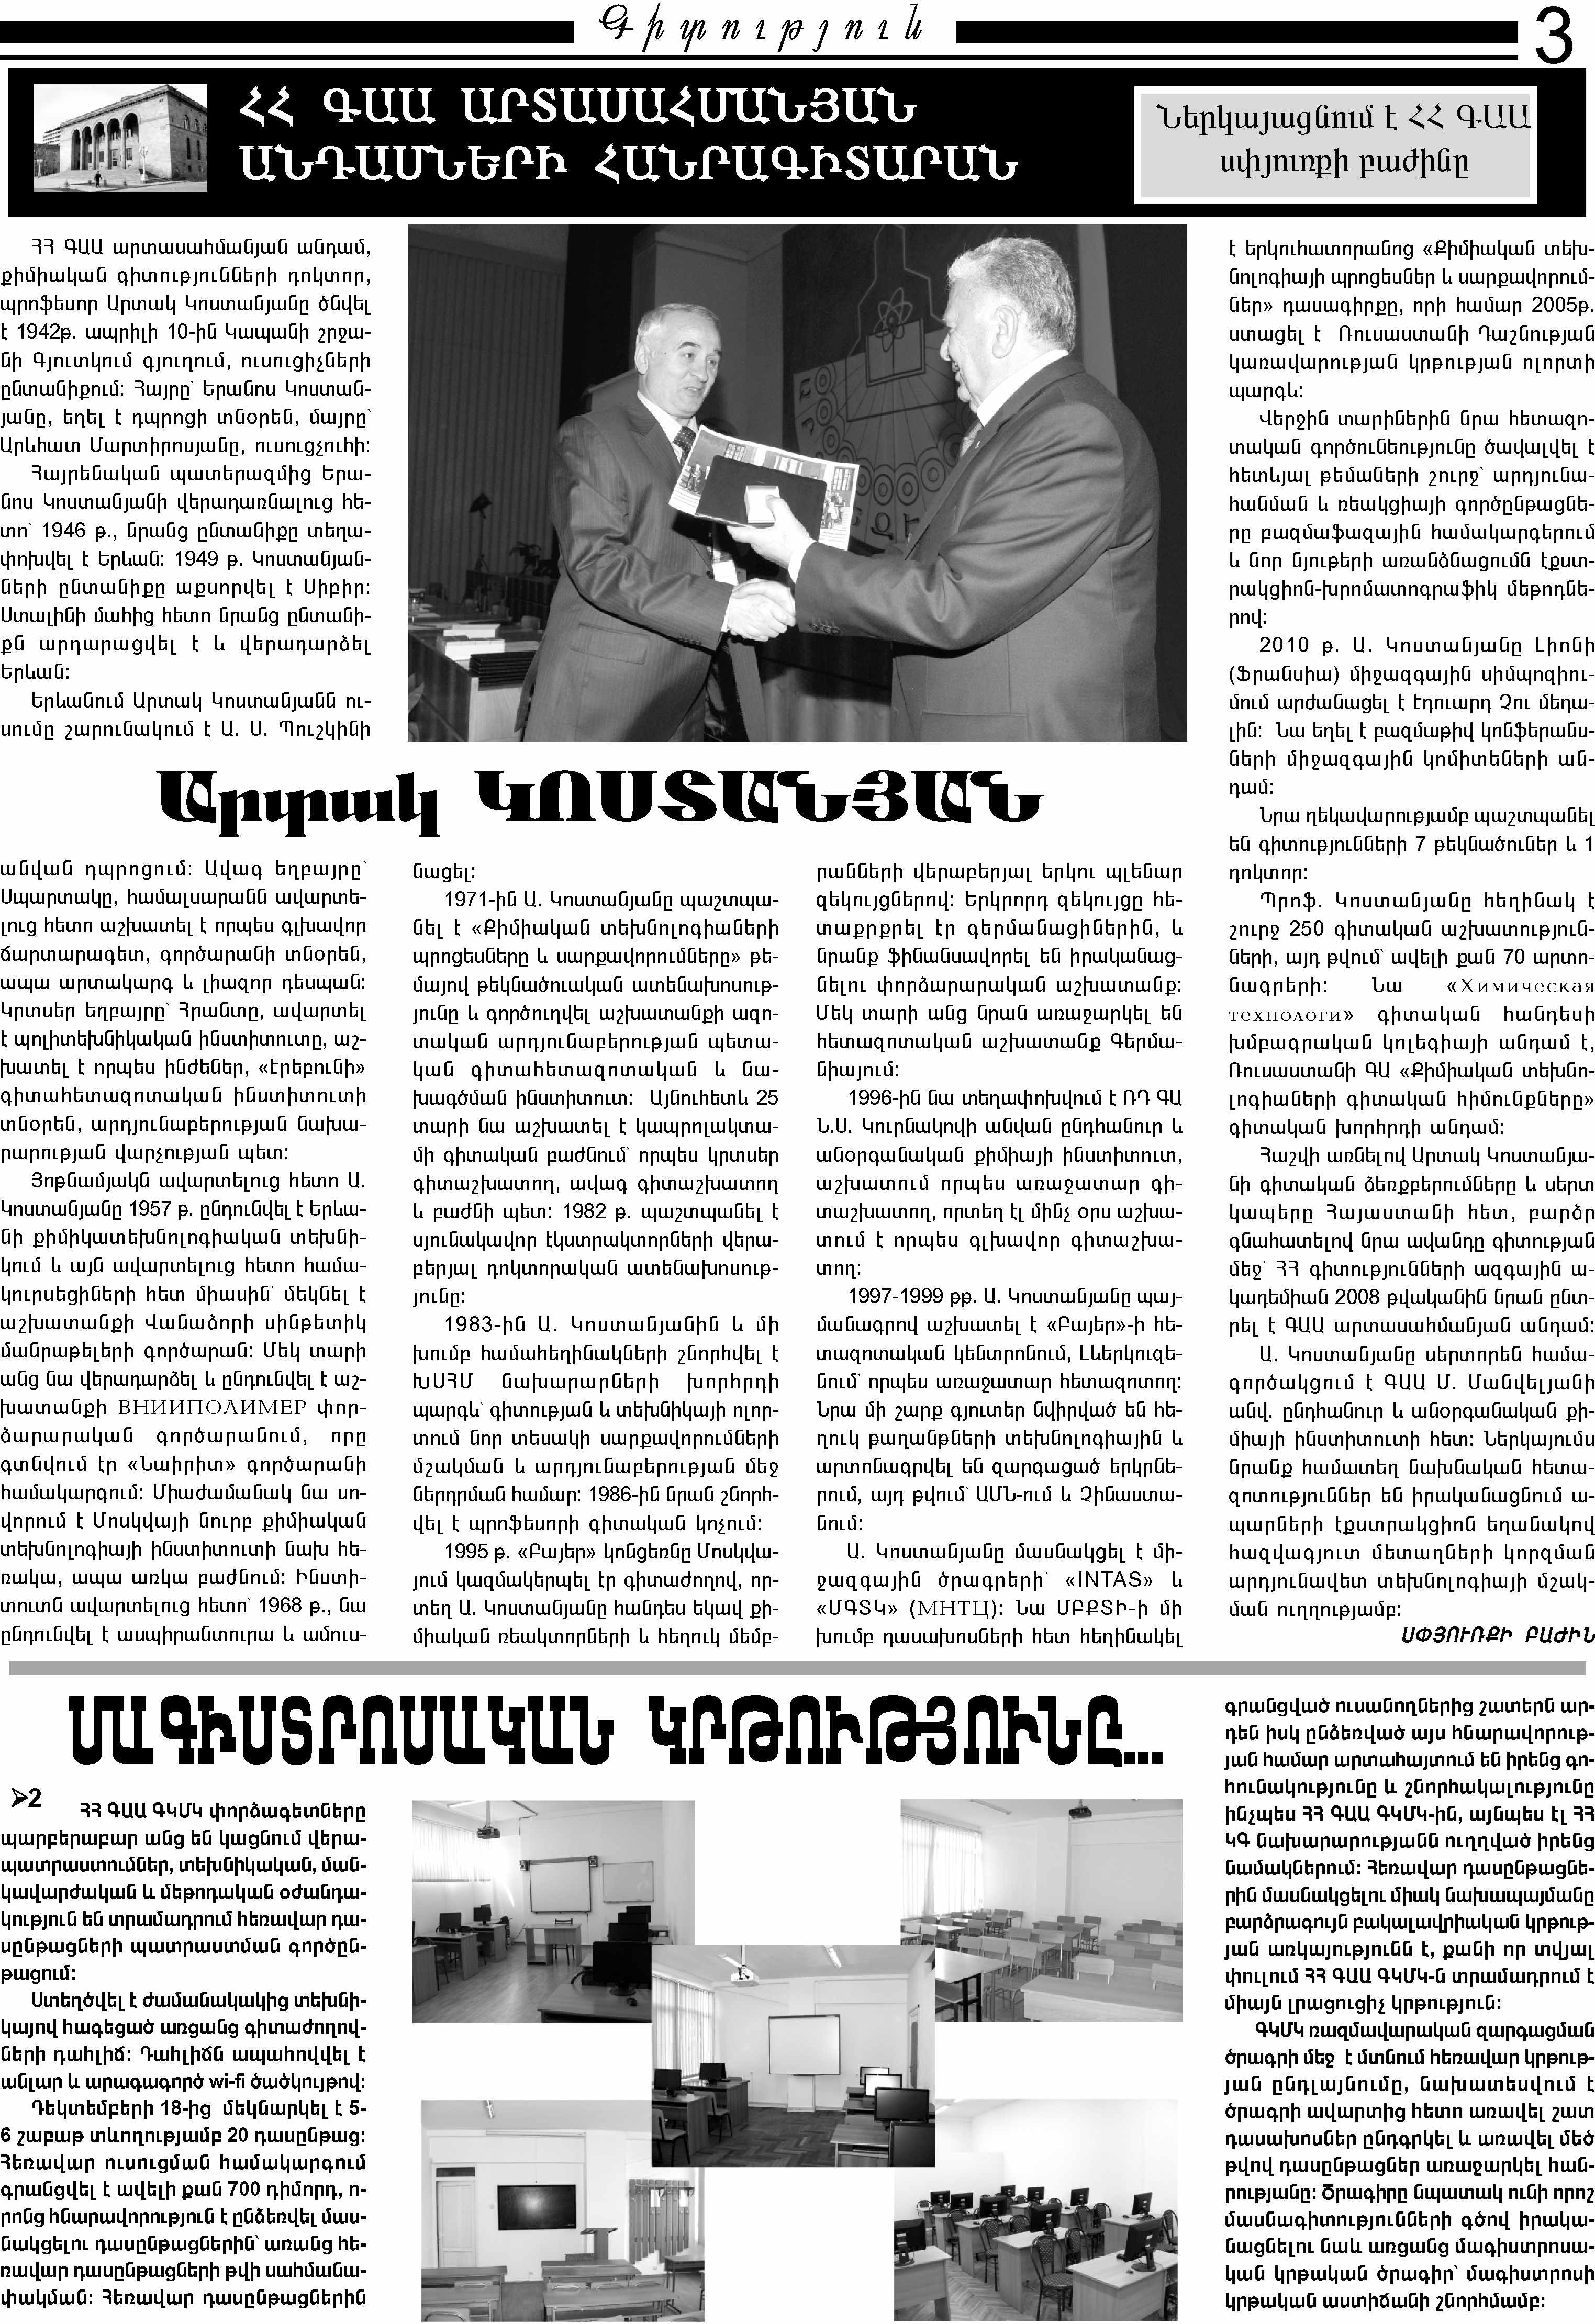person: (391, 218, 1188, 751)
